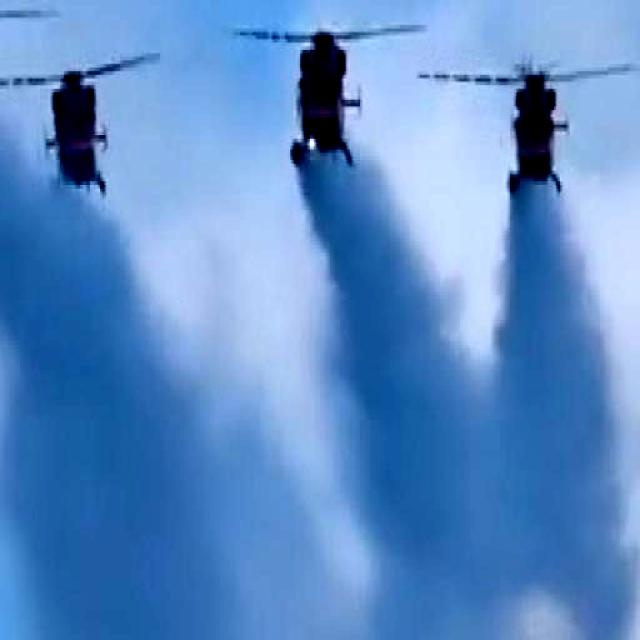drone: (270, 0, 364, 188), (494, 24, 566, 201), (41, 39, 114, 199)
